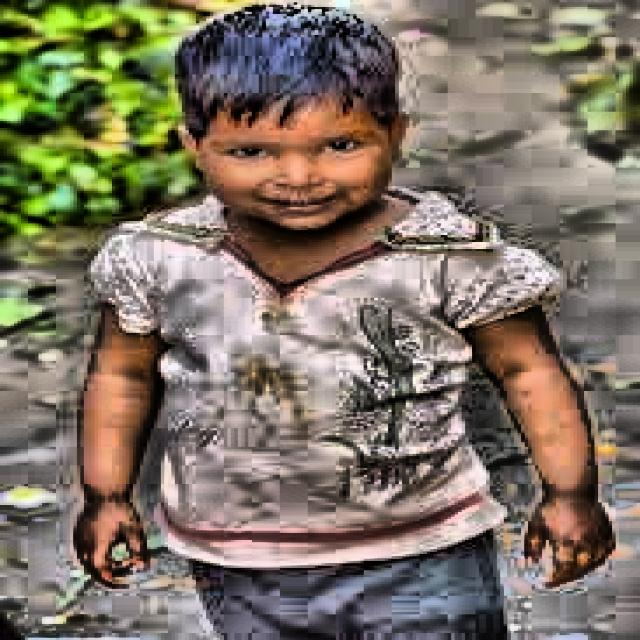Human: (80, 7, 622, 640)
